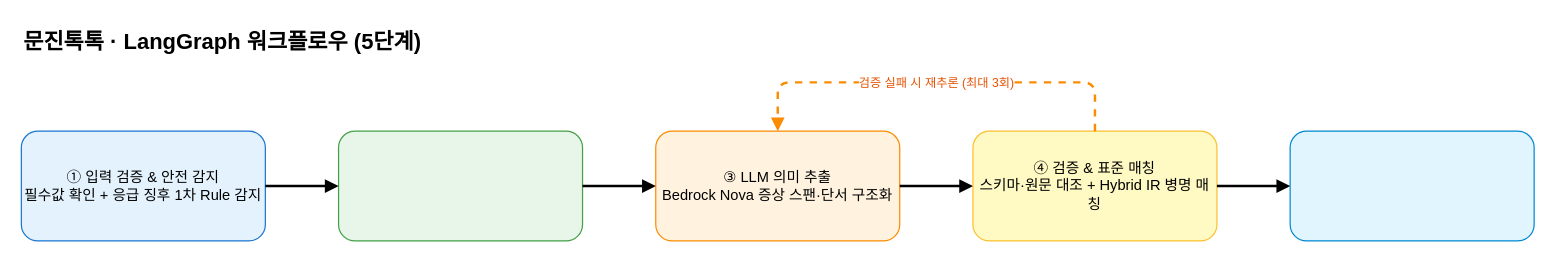
Image size: 1556x262. Some labels were removed from this diagram. The shapes that lost their labels are listed below. From the top down, each one's centre as x and y in pixels, then its label:
At (460,185): "② 문맥 정규화 & RAG 강원 방언 해독 + 의학 백과 문맥 주입".
At (1411,185): "⑤ 저장 & 원페이퍼 동기화 S3 적재 + 원페이퍼 갱신 + 응답 반환".
